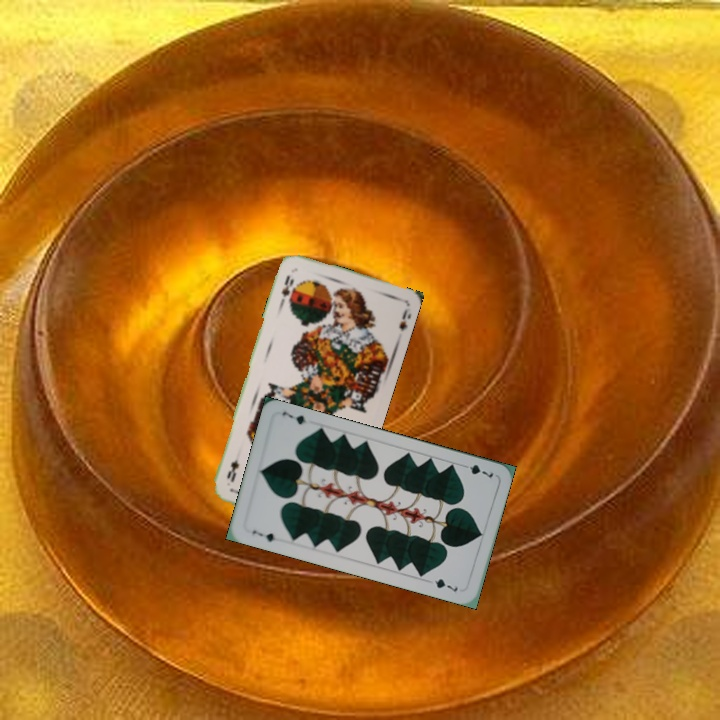G7: (457, 460, 496, 480), (248, 526, 282, 545)
SO: (276, 271, 296, 306)
